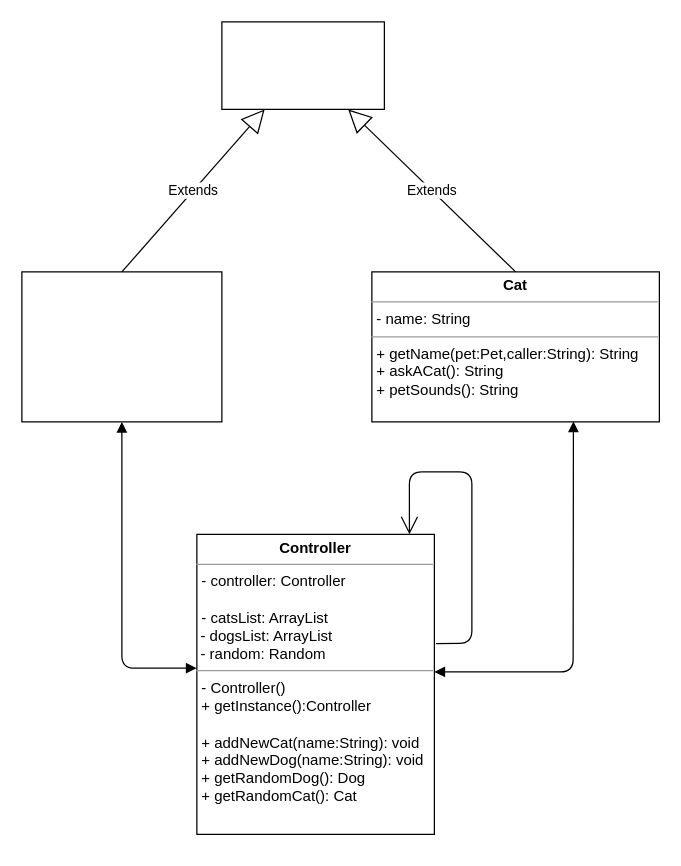
Image size: 681x866. Some labels were removed from this diagram. Each missing label, with the centre of its shape:
<< abstract >> Pet + petSounds(): String: [302,65]
Dog - name: String + askACat(): String + petSounds(): String: [121,346]
